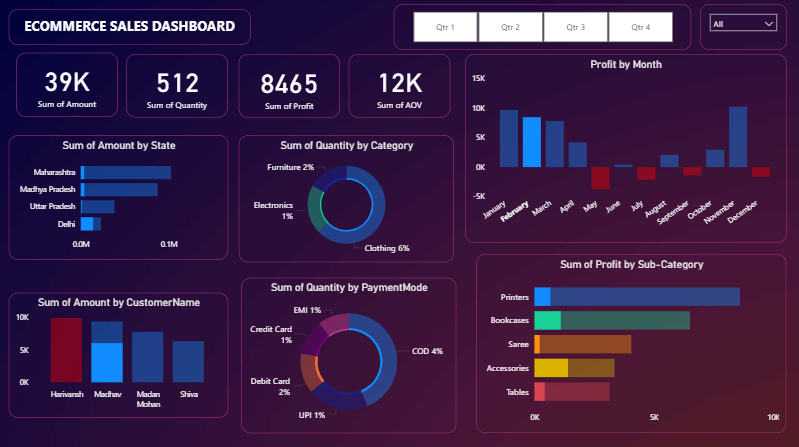

The dashboard page shown, as its layout file describes it:
{"tool":"powerbi","page":{"name":"Page 1","canvas":[1280,720],"ordinal":0},"visuals":[{"type":"textbox","box":[13.8,15,387.5,57.5],"z":0},{"type":"columnChart","title":"Profit by Month","fields":{"Category":["Orders.Order Date.Variation.Date Hierarchy.Month"],"Y":["Sum(Details.Profit)"]},"box":[744,88,514,302],"z":1000},{"type":"barChart","fields":{"Category":["Details.Sub-Category"],"Y":["Sum(Details.Profit)"]},"box":[762,408,496,286],"z":2000},{"type":"donutChart","fields":{"Category":["Details.Category"],"Y":["Sum(Details.Quantity)"]},"box":[382.9,217.1,344.3,202.9],"z":3000},{"type":"donutChart","fields":{"Category":["Details.PaymentMode"],"Y":["Sum(Details.Quantity)"]},"box":[385.7,445.7,344.3,248.6],"z":4000},{"type":"card","fields":{"Values":["Sum(Details.Amount)"]},"box":[26.2,86.2,162.3,102.3],"z":5000},{"type":"card","fields":{"Values":["Sum(Details.Quantity)"]},"box":[202.3,87.7,162.3,101.5],"z":6000},{"type":"card","fields":{"Values":["Sum(Details.Profit)"]},"box":[382.3,87.7,161.5,102.3],"z":7000},{"type":"card","fields":{"Values":["Sum(Details.AOV)"]},"box":[558.5,88.5,162.3,101.5],"z":8000},{"type":"barChart","fields":{"Y":["Sum(Details.Amount)"],"Category":["Orders.State"]},"box":[13.3,218.9,351.1,198.9],"z":9000},{"type":"columnChart","fields":{"Category":["Orders.CustomerName"],"Y":["Sum(Details.Amount)"]},"box":[13.8,470,351.2,200],"z":10000},{"type":"slicer","fields":{"Values":["Orders.Order Date.Variation.Date Hierarchy.Quarter"]},"box":[630,7.3,476.4,73.6],"z":10001},{"type":"slicer","fields":{"Values":["Orders.State"]},"box":[1119.1,7.3,139.1,73.6],"z":10002}]}

Visuals, with their boxes in screenshot pixels (x1, y1, x2, y2), scaled from the page's 1280x720 canvas onto the 799x447 screenshot:
textbox: {"x1": 9, "y1": 9, "x2": 250, "y2": 45}
"Profit by Month" columnChart: {"x1": 464, "y1": 55, "x2": 785, "y2": 242}
barChart - Details.Sub-Category x Sum(Details.Profit): {"x1": 476, "y1": 253, "x2": 785, "y2": 431}
donutChart - Details.Category x Sum(Details.Quantity): {"x1": 239, "y1": 135, "x2": 454, "y2": 261}
donutChart - Details.PaymentMode x Sum(Details.Quantity): {"x1": 241, "y1": 277, "x2": 456, "y2": 431}
card - Sum(Details.Amount): {"x1": 16, "y1": 54, "x2": 118, "y2": 117}
card - Sum(Details.Quantity): {"x1": 126, "y1": 54, "x2": 228, "y2": 117}
card - Sum(Details.Profit): {"x1": 239, "y1": 54, "x2": 339, "y2": 118}
card - Sum(Details.AOV): {"x1": 349, "y1": 55, "x2": 450, "y2": 118}
barChart - Sum(Details.Amount) x Orders.State: {"x1": 8, "y1": 136, "x2": 227, "y2": 259}
columnChart - Orders.CustomerName x Sum(Details.Amount): {"x1": 9, "y1": 292, "x2": 228, "y2": 416}
slicer - Orders.Order Date.Variation.Date Hierarchy.Quarter: {"x1": 393, "y1": 5, "x2": 691, "y2": 50}
slicer - Orders.State: {"x1": 699, "y1": 5, "x2": 785, "y2": 50}
